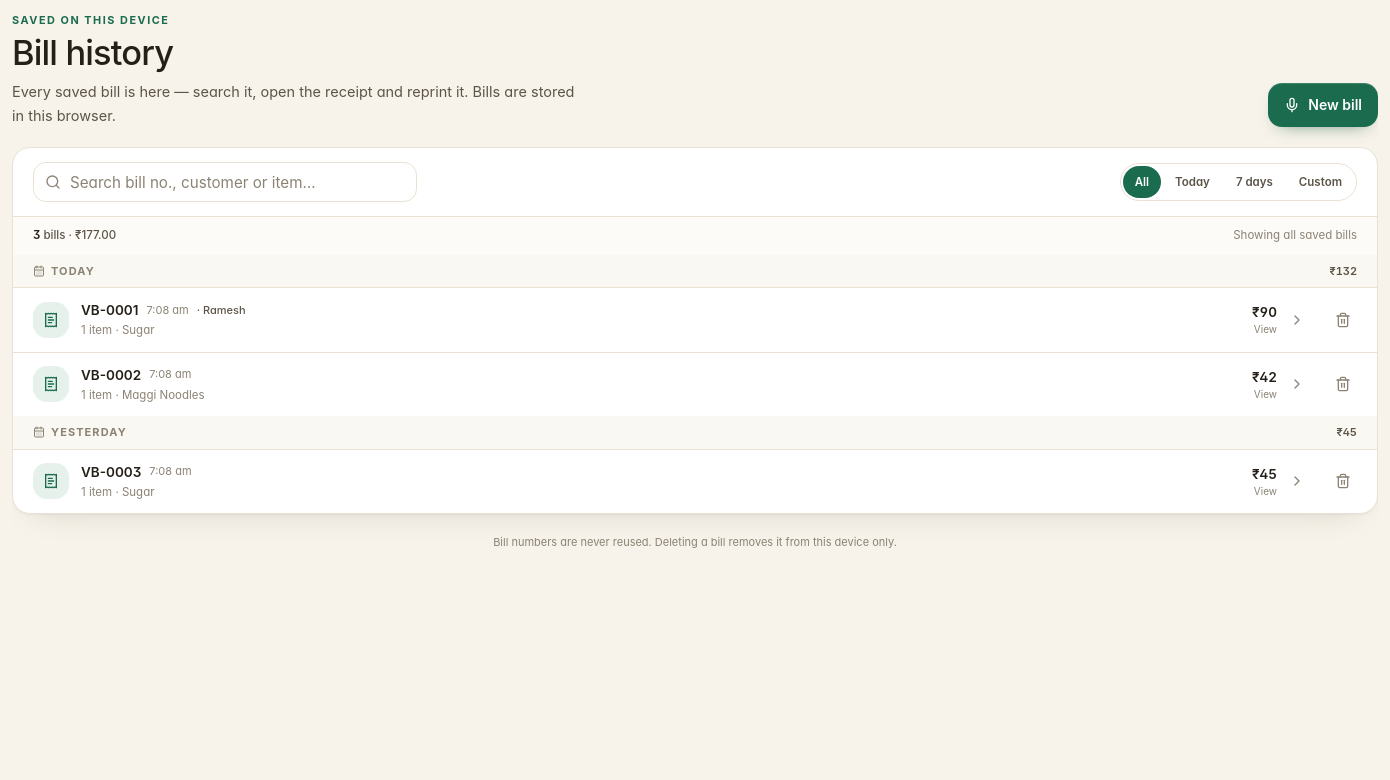
Test: bill history › searches by item name and shows an empty state when nothing matches
Expected: the text "VB-0001" is shown, 81,300 -> 138,320
In the field named "Search bills": (225,182) 33,162 -> 417,202, type "maggi"
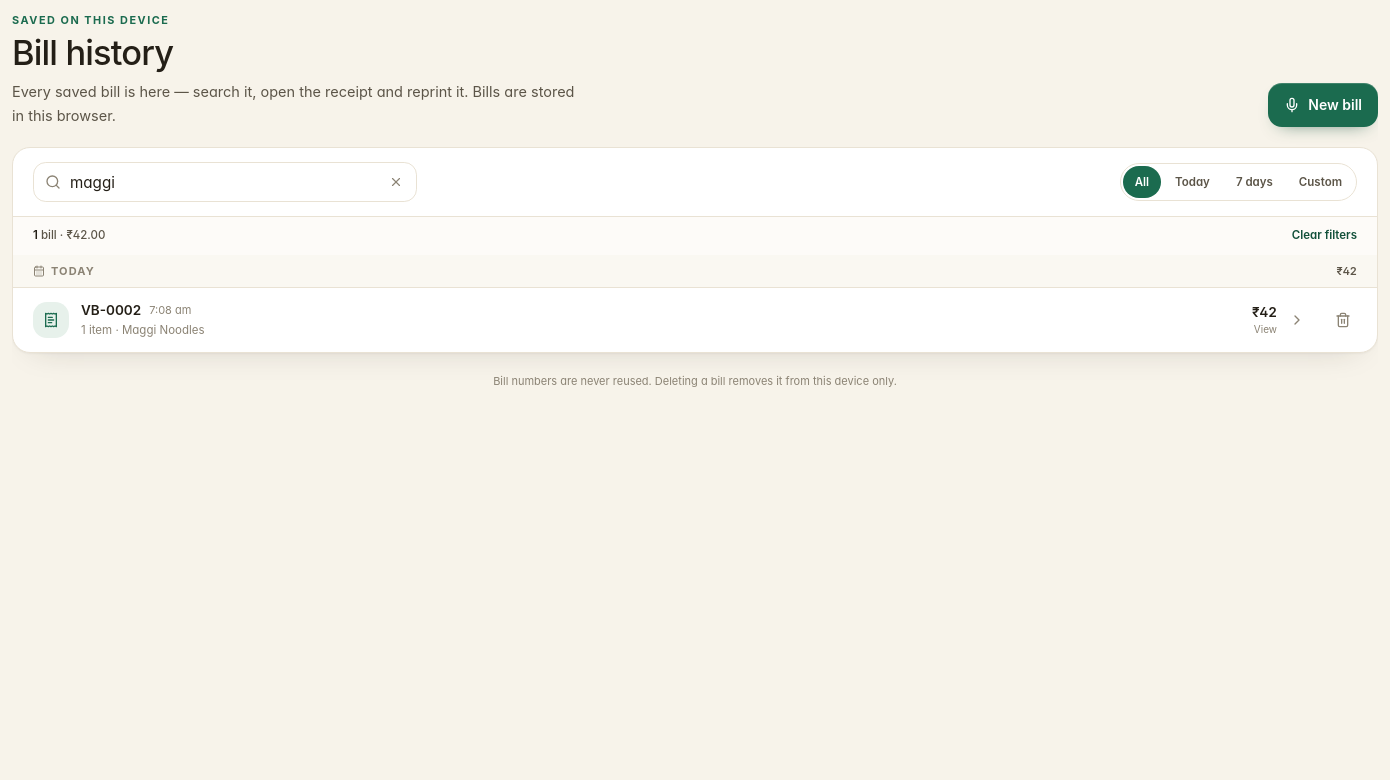
Expected: the text "VB-0002" is shown, 81,300 -> 141,320
Result: the button "VB-0001" is gone
Replace the text in the field named "Search bills" with "not-a-product": (225,182) 33,162 -> 417,202
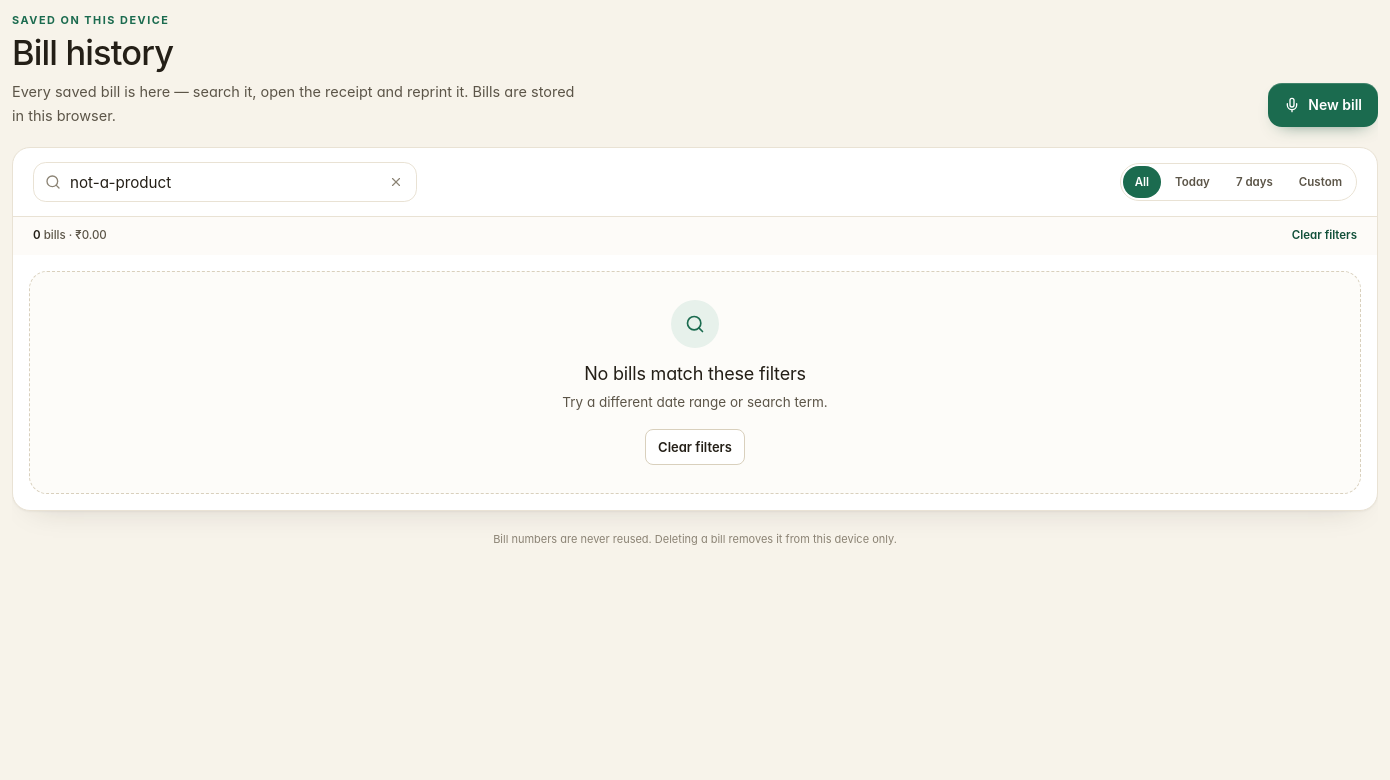
Result: the text "No bills match these filters" is shown at 584,360 -> 806,388
